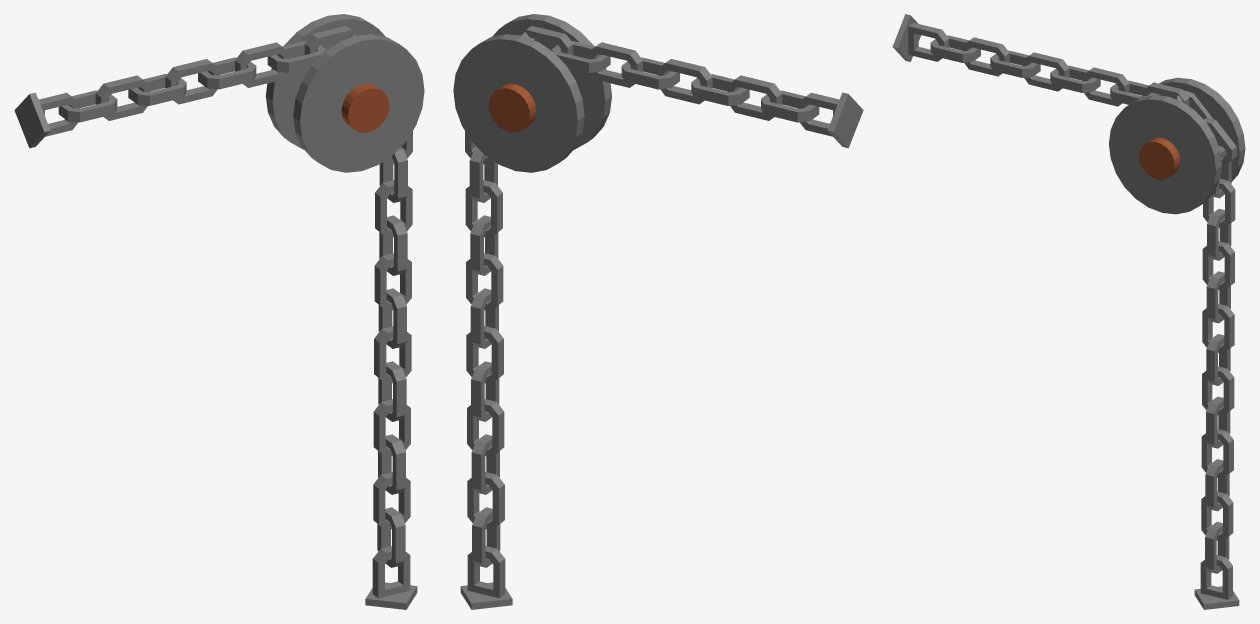
The model's file is Prop_Fantasy_Dungeon_Industrial_Pulley_Chain_Metal_02.FBX.
The picture shows the model from 3 angles, left to right: view 1: azimuth 30°, elevation 25°; view 2: azimuth 150°, elevation 25°; view 3: azimuth 330°, elevation 25°; orthographic projection. The views are drawn at different scales.
Parts seen in each view (by area): view 1: Prop_Fantasy_Dungeon_Industrial_Pulley_Chain_Metal_02; view 2: Prop_Fantasy_Dungeon_Industrial_Pulley_Chain_Metal_02; view 3: Prop_Fantasy_Dungeon_Industrial_Pulley_Chain_Metal_02.
Boxes of the visible parts, left/top/right/bottom form: Prop_Fantasy_Dungeon_Industrial_Pulley_Chain_Metal_02: left=14, top=14, right=424, bottom=609; Prop_Fantasy_Dungeon_Industrial_Pulley_Chain_Metal_02: left=453, top=14, right=863, bottom=609; Prop_Fantasy_Dungeon_Industrial_Pulley_Chain_Metal_02: left=892, top=14, right=1245, bottom=609.
Size of the model in its own units: 6936 by 10133 by 1455.
